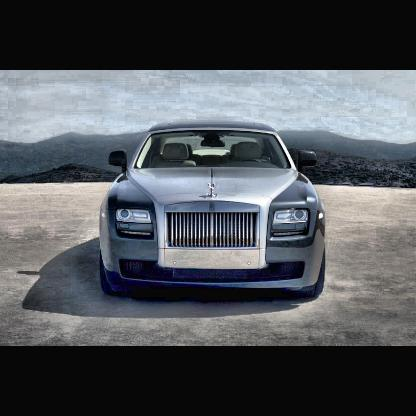Rolls-Royce Ghost Sedan 2012: (100, 119, 331, 300)
